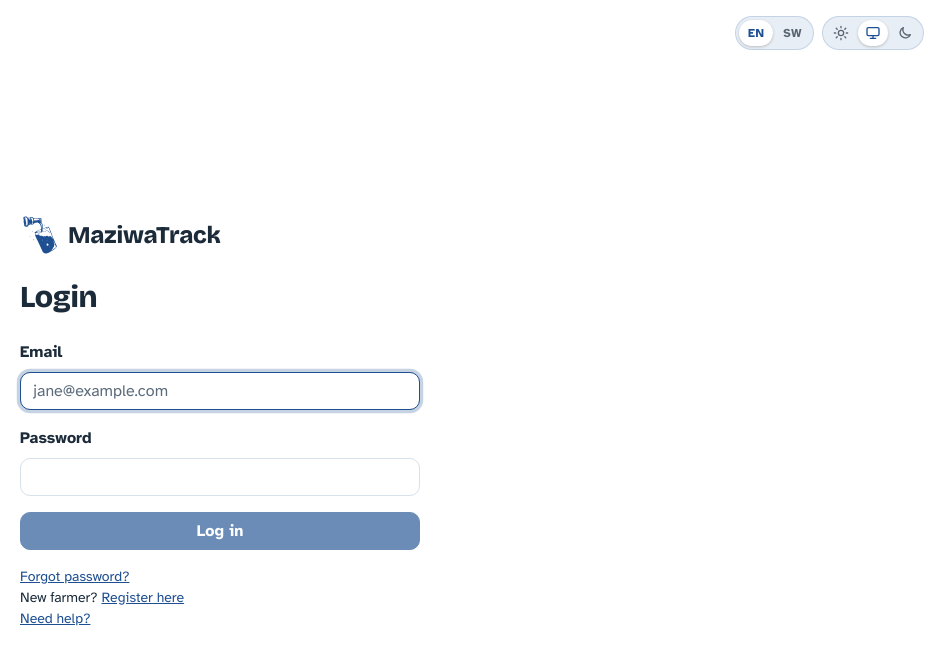
Scenario: Login › A1: shows the server message when the password is wrong
Type "wanjiku@example.com" into the field labelled "Email" at point(220, 391), box [20, 372, 420, 410]
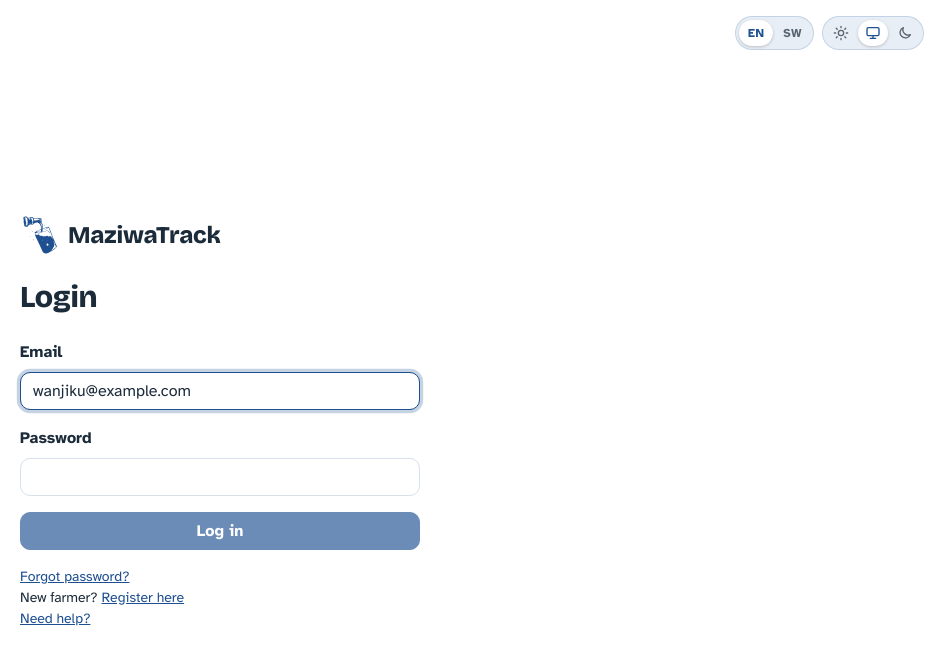
Type "wrong" into the password field labelled "Password" at point(220, 477), box [20, 458, 420, 496]
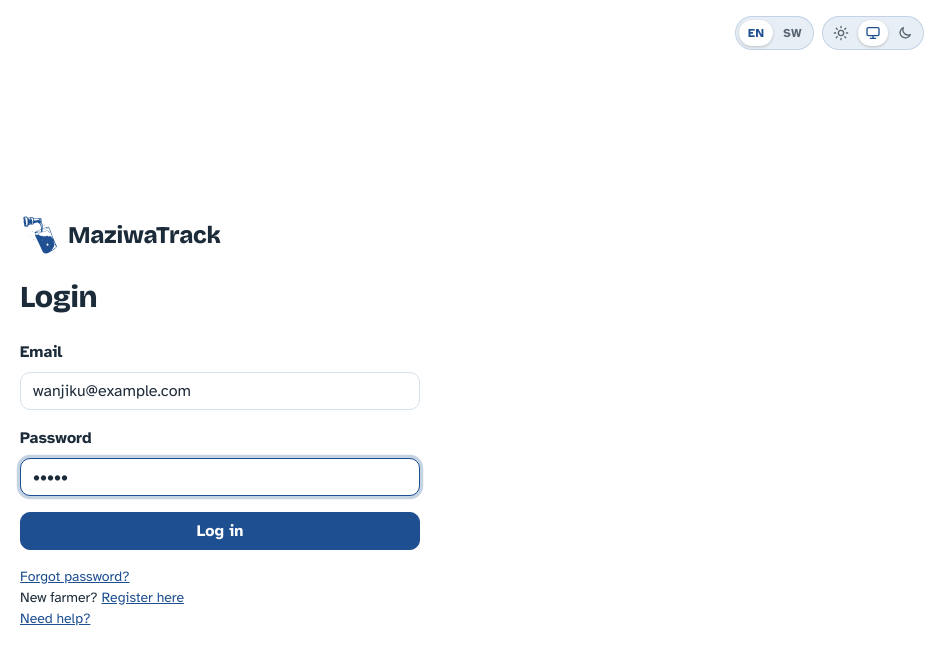
Click the button "Log in" at point(220, 531), box [20, 512, 420, 550]
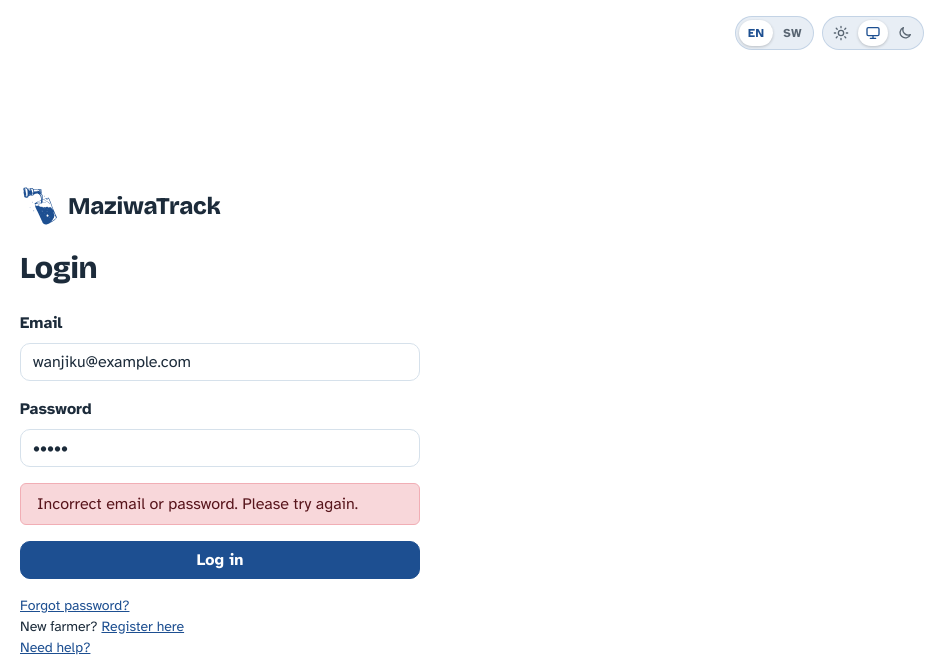
Check: the text "Incorrect email or password. Please try again." is shown, box [20, 483, 420, 525]
